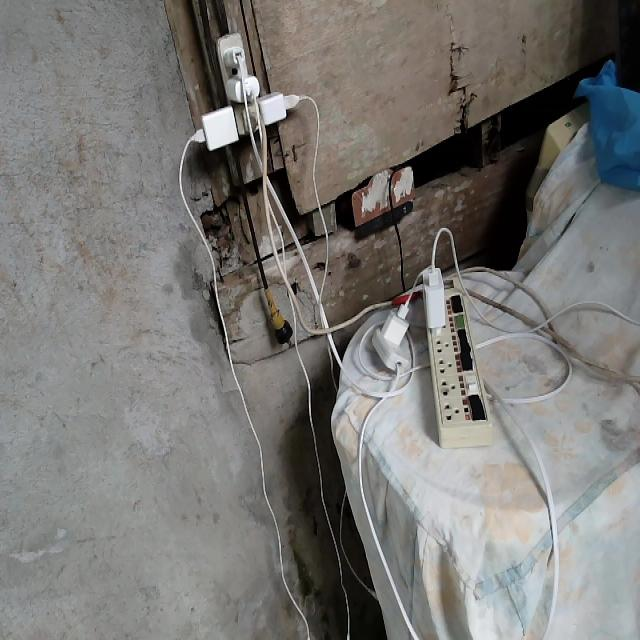-: (179, 31, 300, 161)
